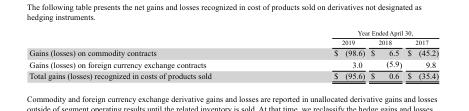table: (28, 28, 437, 79)
table column: (28, 28, 272, 79), (272, 28, 367, 79), (367, 28, 403, 79), (403, 28, 437, 79)
table column header: (28, 28, 437, 46)
table row: (28, 46, 437, 58), (28, 58, 437, 69), (28, 69, 437, 79), (28, 28, 437, 37), (28, 37, 437, 46)
table spanning cell: (272, 28, 437, 37)
